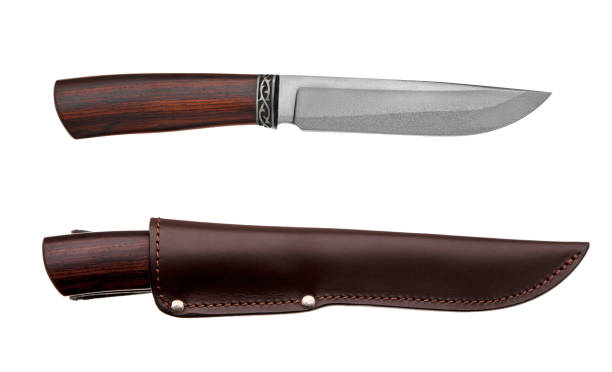knife: (40, 216, 590, 319), (52, 72, 553, 139)
